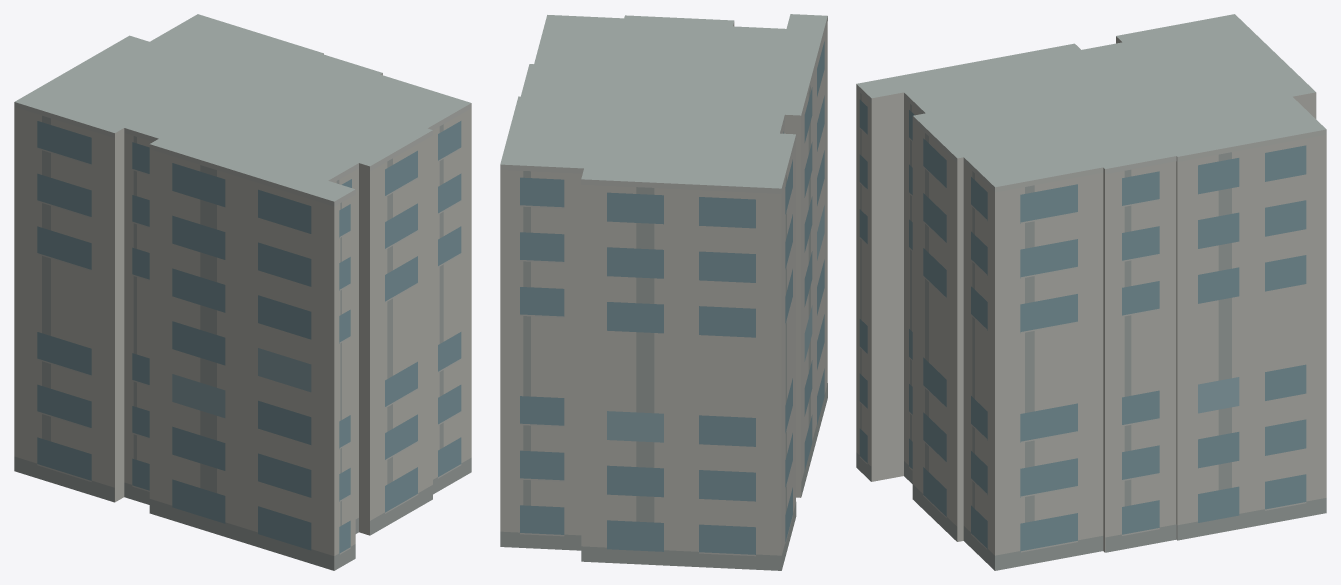
File: survey-upis-32724951.glb
3 views of the same model, side by side, from view 1: azimuth 30°, elevation 25°; view 2: azimuth 150°, elevation 25°; view 3: azimuth 270°, elevation 25° (orthographic). The views are drawn at different scales.
Visible parts, largest first — view 1: survey-upis-32724951.tmp; view 2: survey-upis-32724951.tmp; view 3: survey-upis-32724951.tmp.
Part boxes in pixels (x1,y1,x2,y2): survey-upis-32724951.tmp: (14, 14, 471, 570); survey-upis-32724951.tmp: (500, 14, 827, 570); survey-upis-32724951.tmp: (856, 14, 1326, 570).
Size of the model in its own units: 17.25 by 17.8 by 19.79.
